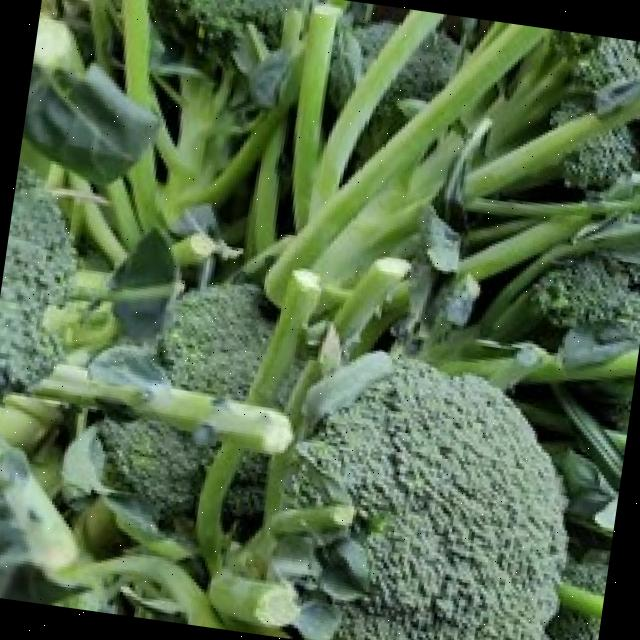Broccoli: (294, 359, 564, 640), (294, 359, 564, 640), (0, 168, 77, 397), (0, 169, 77, 397), (160, 284, 272, 399), (160, 284, 272, 399), (98, 419, 213, 524), (98, 419, 214, 523), (225, 454, 267, 535), (224, 454, 267, 533)
